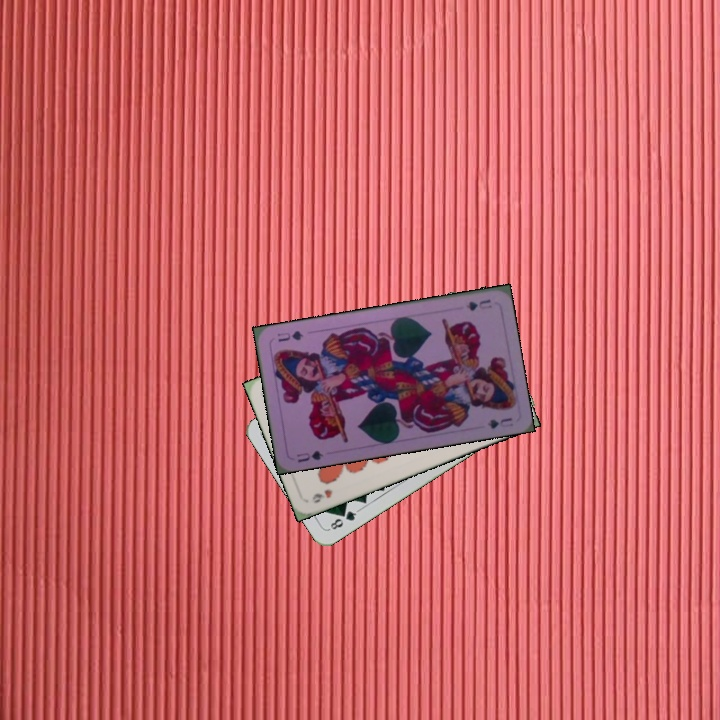G8: (325, 506, 361, 532)
GU: (293, 446, 326, 465), (462, 295, 494, 314)
H9: (308, 485, 335, 506)
